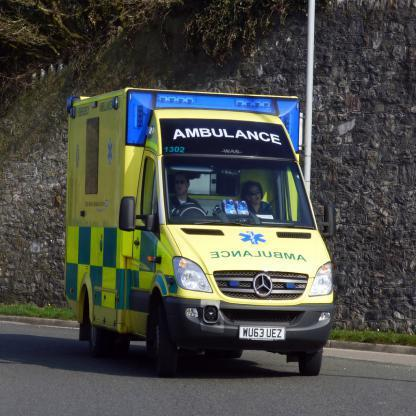Ambulance - v1 Ambulance last generate: (65, 82, 335, 376)
